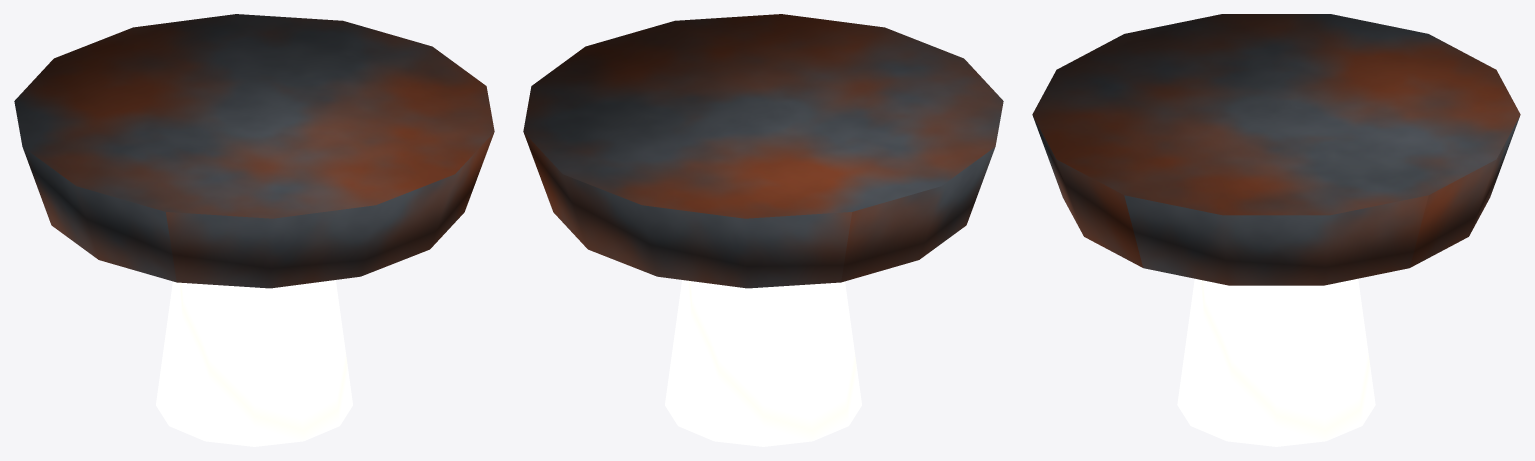
Rendered from prop_ceiling_lamp.glb.
The picture shows the model from 3 angles, left to right: view 1: azimuth 30°, elevation 25°; view 2: azimuth 150°, elevation 25°; view 3: azimuth 270°, elevation 25°; orthographic projection.
Visible parts, largest first — view 1: MountPlate, BulbGlass; view 2: MountPlate, BulbGlass; view 3: MountPlate, BulbGlass.
Part boxes in pixels (left/top/right/bottom): MountPlate: left=14, top=14, right=494, bottom=288; BulbGlass: left=156, top=280, right=352, bottom=446; MountPlate: left=523, top=14, right=1003, bottom=288; BulbGlass: left=665, top=280, right=861, bottom=446; MountPlate: left=1032, top=14, right=1520, bottom=285; BulbGlass: left=1177, top=278, right=1375, bottom=446.
Size of the model in its own units: 0.312 by 0.21 by 0.32.
2 materials, 1 textured.
